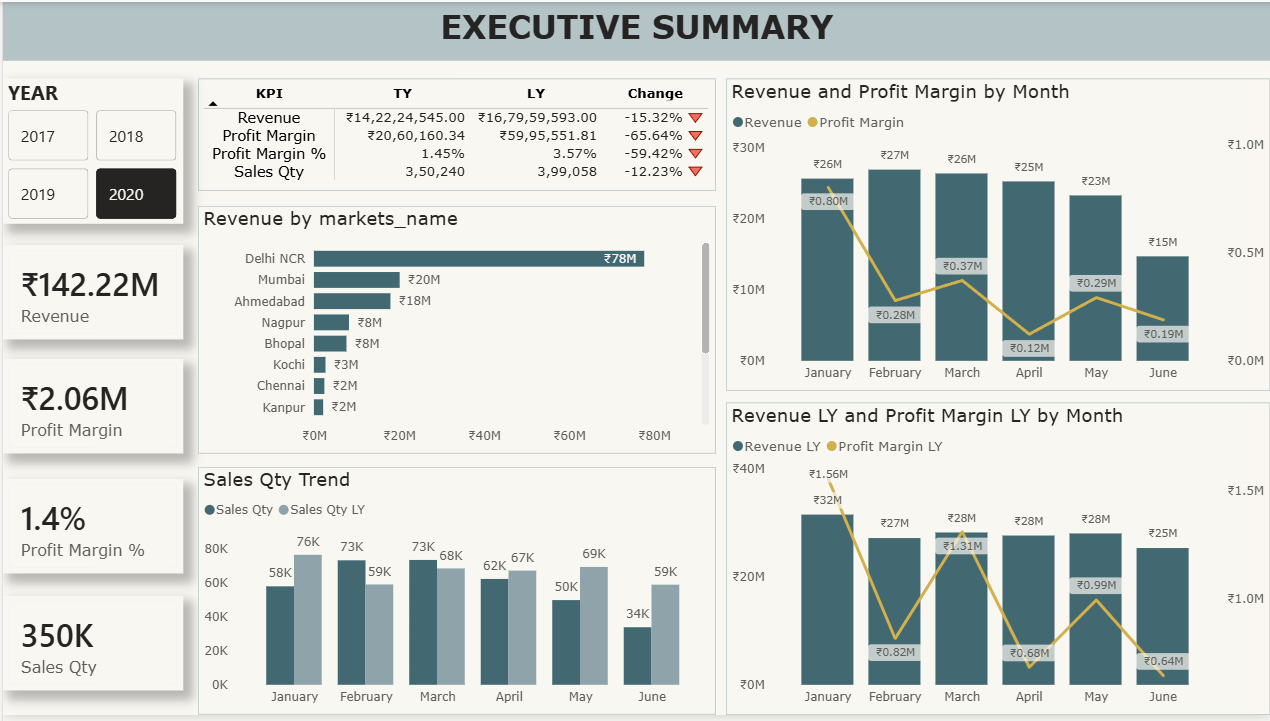

This screenshot's page, from the dashboard's own definition file:
{"tool":"powerbi","page":{"name":"Executive Summary","canvas":[1280,720],"ordinal":0},"visuals":[{"type":"pivotTable","fields":{"Rows":["KPI.KPI"],"Values":["Base Measures.TY","Base Measures.LY","Base Measures.Change"]},"box":[196.8,77.2,522.4,113.6],"z":0},{"type":"advancedSlicerVisual","title":"YEAR","fields":{"Values":["sales date.year"]},"box":[0,77.2,181.7,146.9],"z":1000},{"type":"cardVisual","fields":{"Data":["Base Measures.Revenue"]},"box":[0,245.3,181.7,95.4],"z":2000},{"type":"cardVisual","fields":{"Data":["Base Measures.Profit Margin"]},"box":[0,360.4,181.7,95.4],"z":3000},{"type":"cardVisual","fields":{"Data":["Base Measures.Profit Margin %"]},"box":[0,481.5,181.7,95.4],"z":4000},{"type":"cardVisual","fields":{"Data":["Base Measures.Sales Qty"]},"box":[0,599.6,181.7,95.4],"z":5000},{"type":"lineClusteredColumnComboChart","fields":{"Category":["sales date.cy_date.Variation.Date Hierarchy.Year","sales date.cy_date.Variation.Date Hierarchy.Quarter","sales date.cy_date.Variation.Date Hierarchy.Month","sales date.cy_date.Variation.Date Hierarchy.Day"],"Y":["Base Measures.Revenue"],"Y2":["Base Measures.Profit Margin"]},"box":[729.8,77.2,549.7,315],"z":6000},{"type":"lineClusteredColumnComboChart","fields":{"Category":["sales date.cy_date.Variation.Date Hierarchy.Year","sales date.cy_date.Variation.Date Hierarchy.Quarter","sales date.cy_date.Variation.Date Hierarchy.Month","sales date.cy_date.Variation.Date Hierarchy.Day"],"Y":["Base Measures.Revenue LY"],"Y2":["Base Measures.Profit Margin LY"]},"box":[729.8,404.3,549.7,315],"z":7000},{"type":"textbox","box":[0,0,1279.5,59.1],"z":8000},{"type":"clusteredBarChart","fields":{"Category":["sales markets.markets_name","sales customers.custmer_name","sales products.product_code"],"Y":["Base Measures.Revenue"]},"box":[196.8,205.9,522.4,249.8],"z":9000},{"type":"clusteredColumnChart","title":"Sales Qty Trend","fields":{"Category":["sales date.cy_date.Variation.Date Hierarchy.Year","sales date.cy_date.Variation.Date Hierarchy.Quarter","sales date.cy_date.Variation.Date Hierarchy.Month","sales date.cy_date.Variation.Date Hierarchy.Day"],"Y":["Base Measures.Sales Qty","Base Measures.Sales Qty LY"]},"box":[196.8,469.4,522.4,249.8],"z":11000}]}

Visuals, with their boxes in screenshot pixels (x1, y1, x2, y2), scaled from the page's 1280x720 canvas onto the 1270x721 screenshot:
pivotTable - KPI.KPI x Base Measures.TY: (x1=195, y1=77, x2=714, y2=191)
"YEAR" advancedSlicerVisual: (x1=0, y1=77, x2=180, y2=224)
cardVisual - Base Measures.Revenue: (x1=0, y1=246, x2=180, y2=341)
cardVisual - Base Measures.Profit Margin: (x1=0, y1=361, x2=180, y2=456)
cardVisual - Base Measures.Profit Margin %: (x1=0, y1=482, x2=180, y2=578)
cardVisual - Base Measures.Sales Qty: (x1=0, y1=600, x2=180, y2=696)
lineClusteredColumnComboChart - sales date.cy_date.Variation.Date Hierarchy.Year x sales date.cy_date.Variation.Date Hierarchy.Quarter: (x1=724, y1=77, x2=1269, y2=393)
lineClusteredColumnComboChart - sales date.cy_date.Variation.Date Hierarchy.Year x sales date.cy_date.Variation.Date Hierarchy.Quarter: (x1=724, y1=405, x2=1269, y2=720)
textbox: (x1=0, y1=0, x2=1269, y2=59)
clusteredBarChart - sales markets.markets_name x sales customers.custmer_name: (x1=195, y1=206, x2=714, y2=456)
"Sales Qty Trend" clusteredColumnChart: (x1=195, y1=470, x2=714, y2=720)
